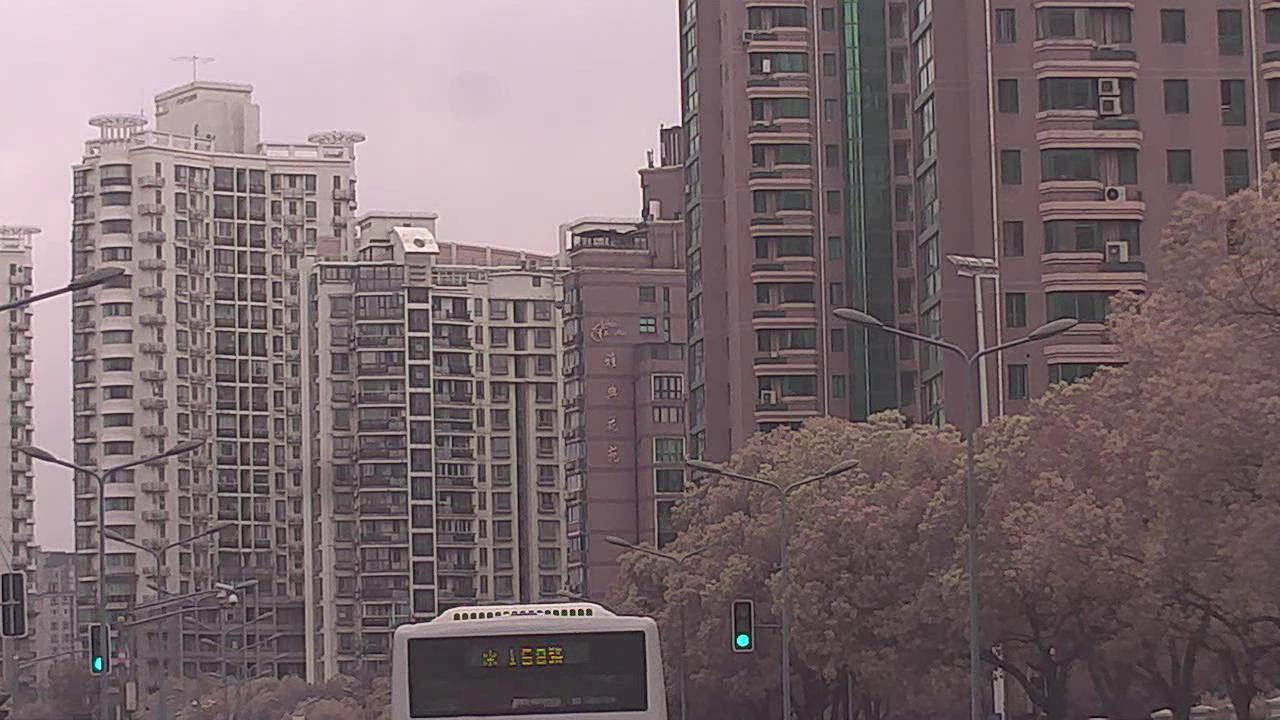traffic_light: (730, 600, 754, 653), (88, 623, 111, 676)
